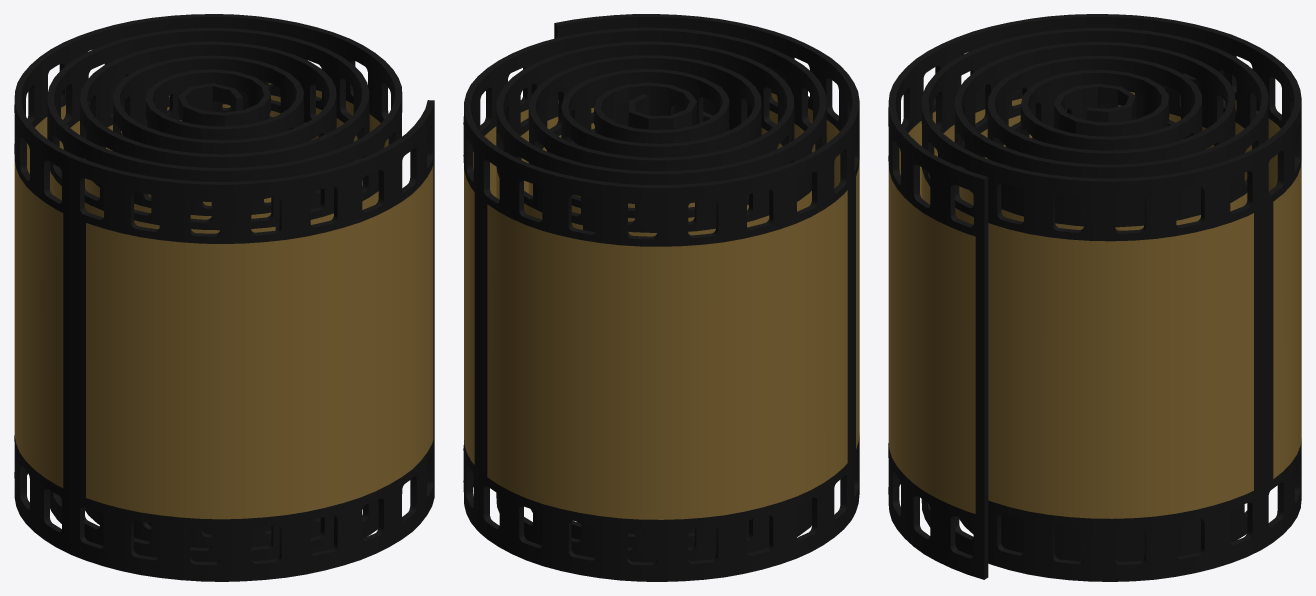
3 renders of one model, left to right at view 1: azimuth 30°, elevation 25°; view 2: azimuth 150°, elevation 25°; view 3: azimuth 270°, elevation 25°, orthographic.
Parts seen in each view (by area): view 1: Plane; view 2: Plane; view 3: Plane.
Boxes of the visible parts, box(x1,y1,x2,y2) form: Plane: box(14, 14, 434, 581); Plane: box(463, 14, 859, 581); Plane: box(888, 14, 1301, 581).
Bounding box in the file's own units: 3.59 × 4 × 3.74.
